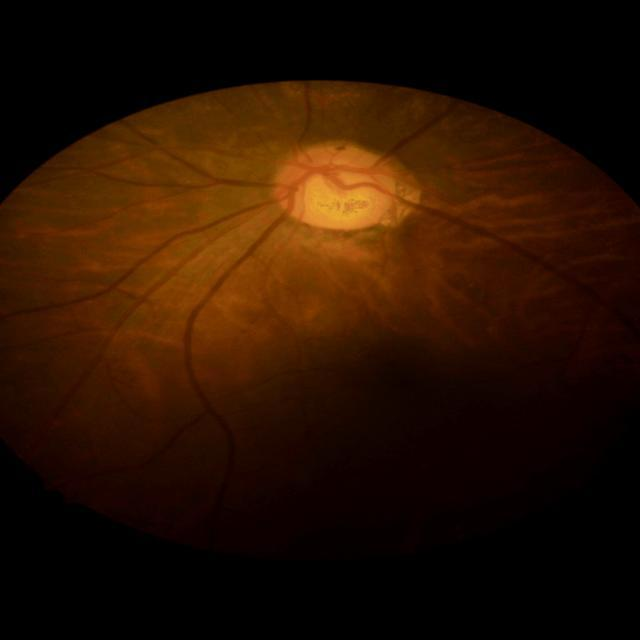cup: (296, 162, 378, 214)
disk: (270, 138, 396, 230)
